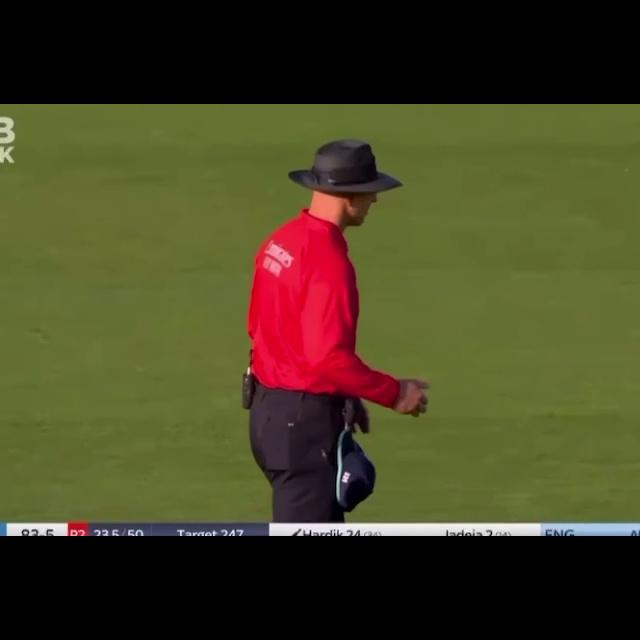umpire: (227, 131, 439, 516)
